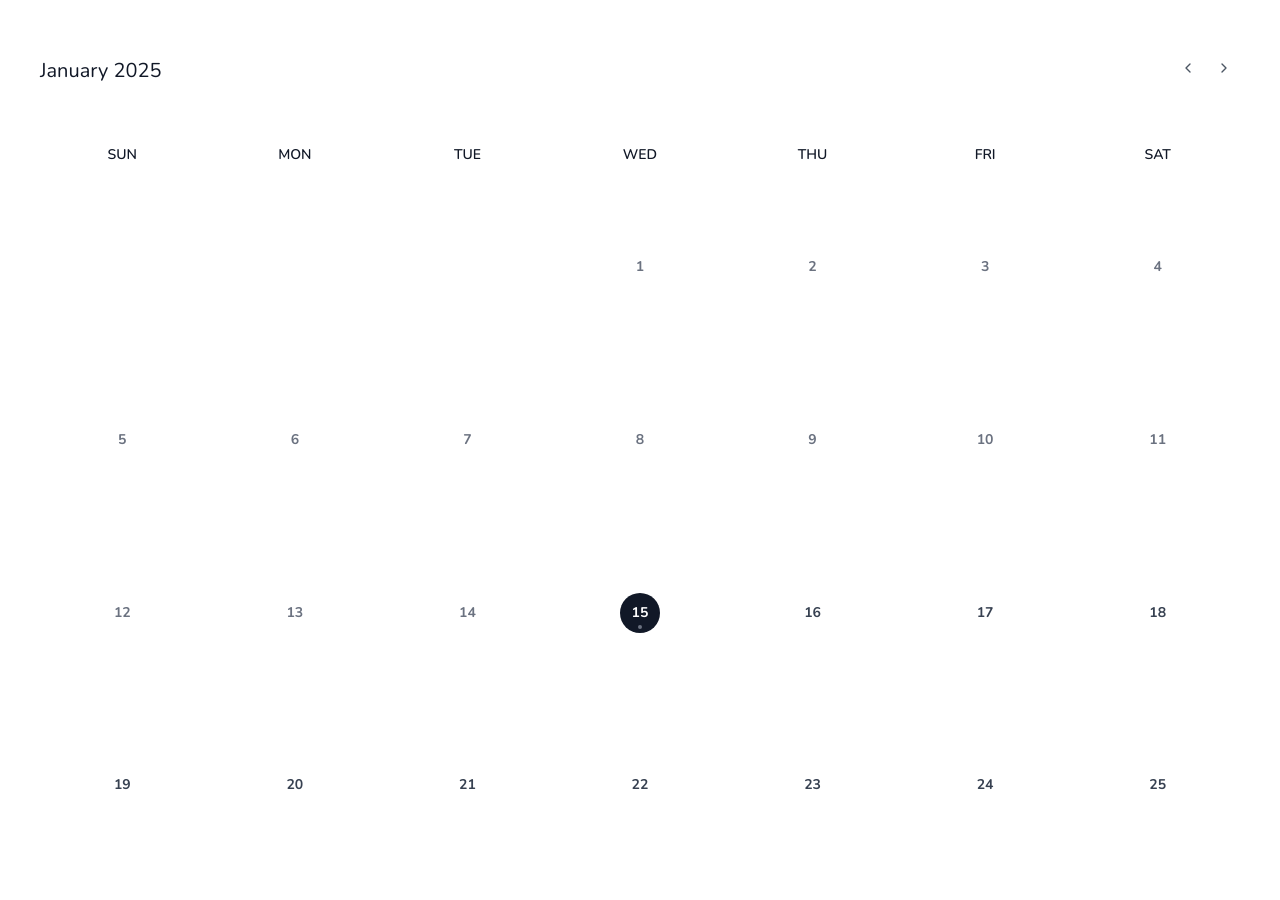
CalendarSection › should navigate to next month
Click the button named "Next month": (1224, 71) [1208,52,1240,89]
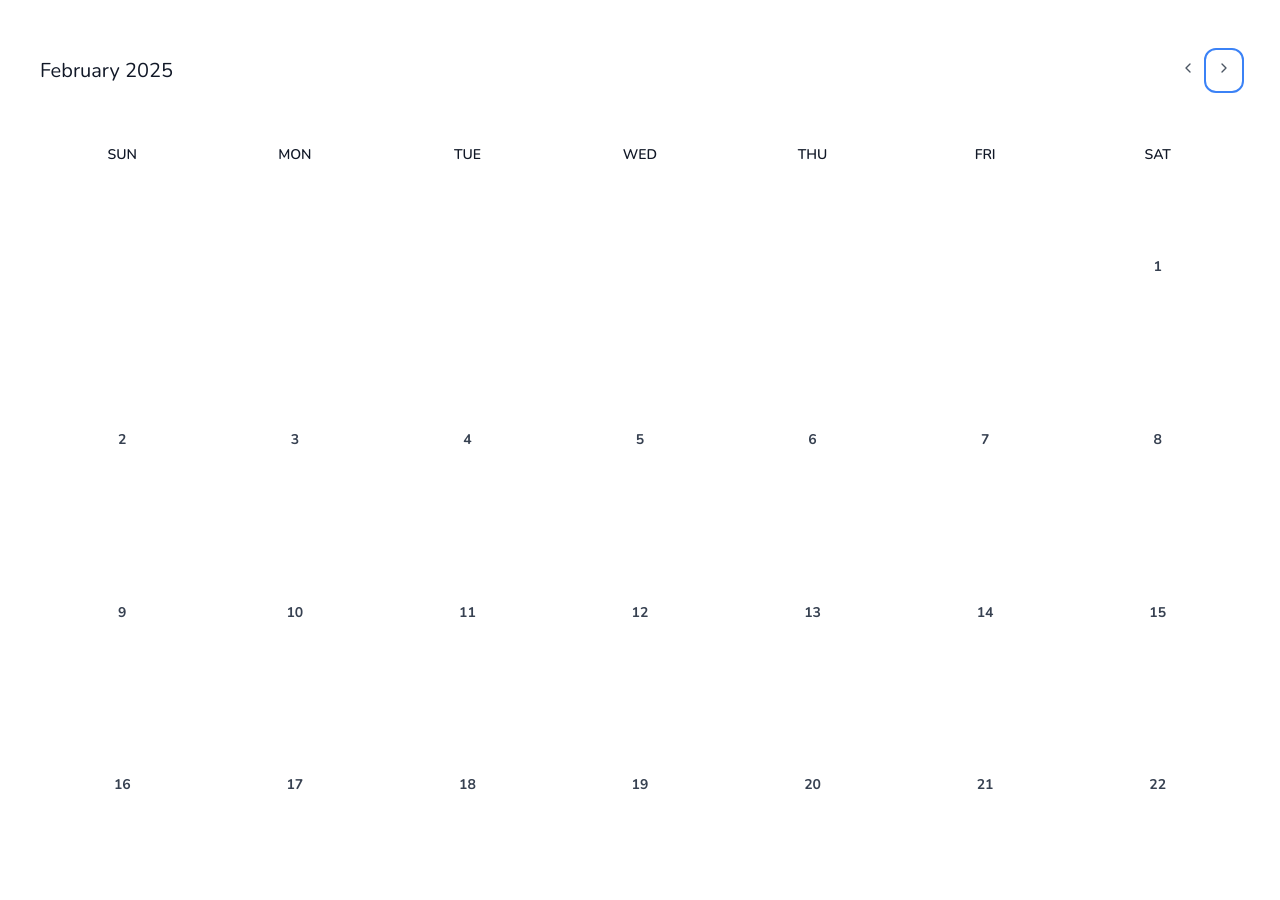
Check: the heading "February 2025" is shown, box [40,57,173,85]
